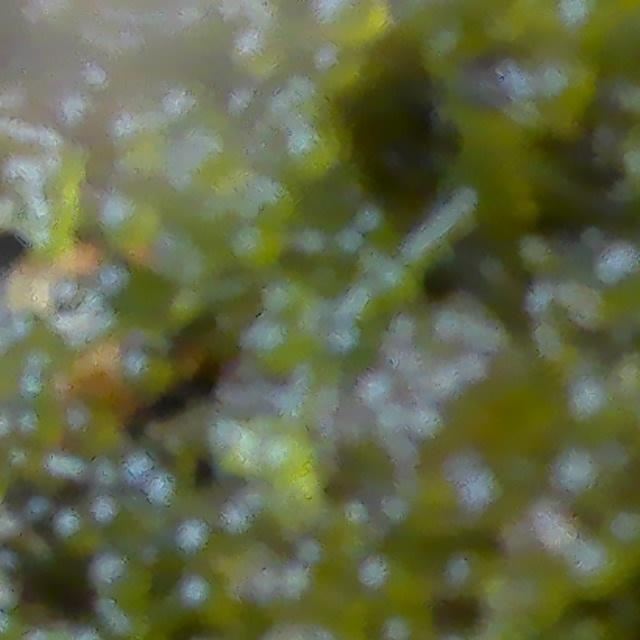SeaGrape: (310, 0, 386, 44), (557, 0, 616, 52), (287, 118, 337, 175), (233, 25, 286, 78), (312, 44, 361, 88)
